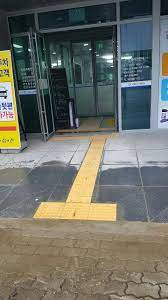guide_blocks: (69, 140, 105, 203), (35, 202, 117, 220), (54, 135, 113, 139), (60, 128, 114, 132)
